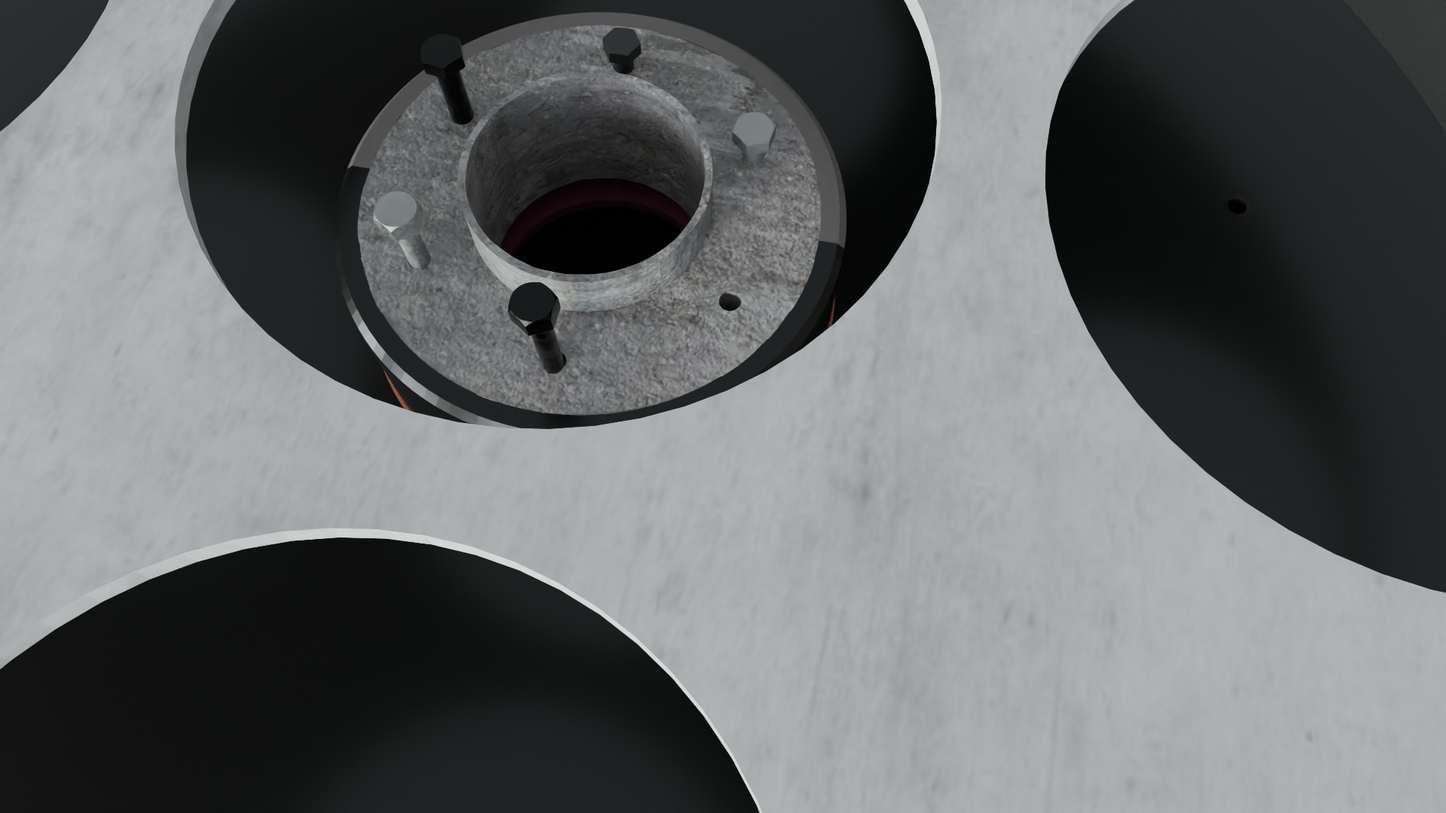bolt: (508, 282, 558, 327), (374, 191, 420, 232), (419, 33, 462, 69), (732, 111, 776, 146), (602, 28, 640, 56)
